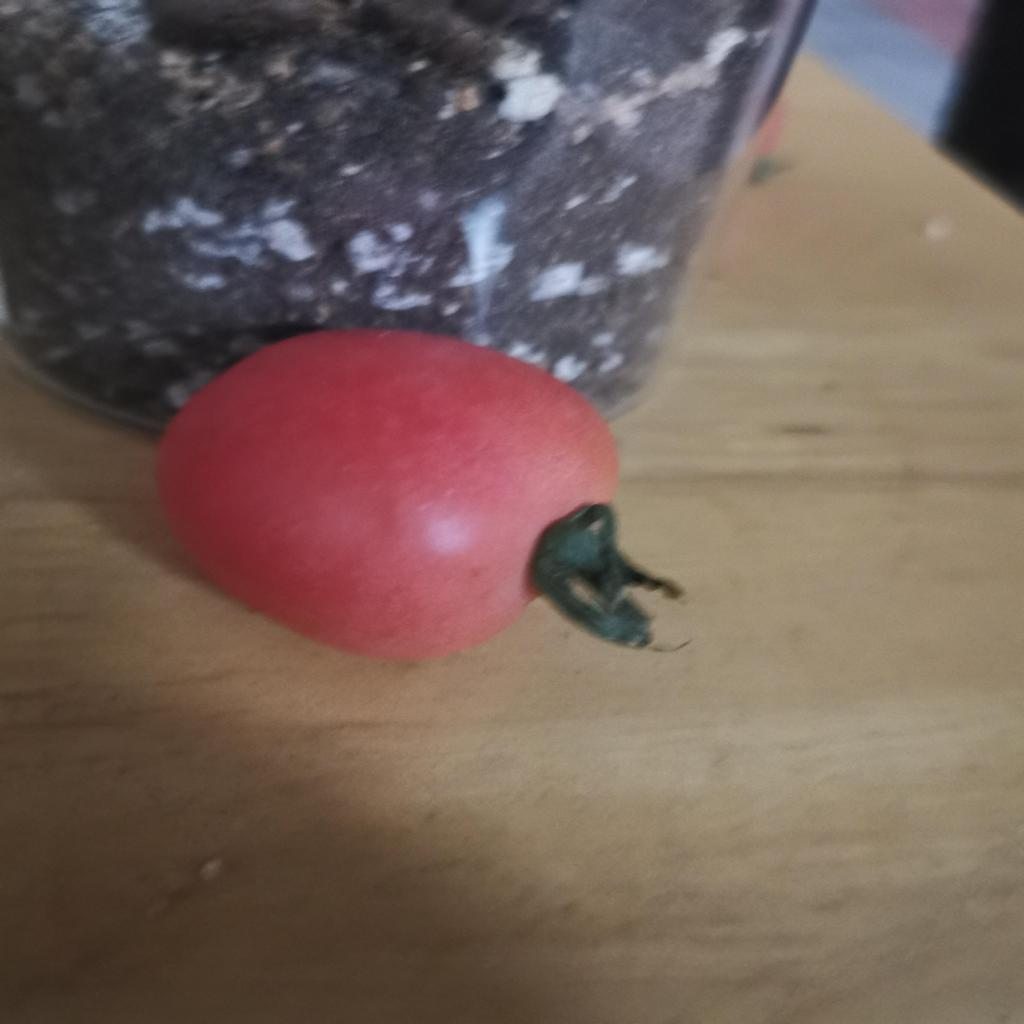tomato: (155, 335, 661, 687)
